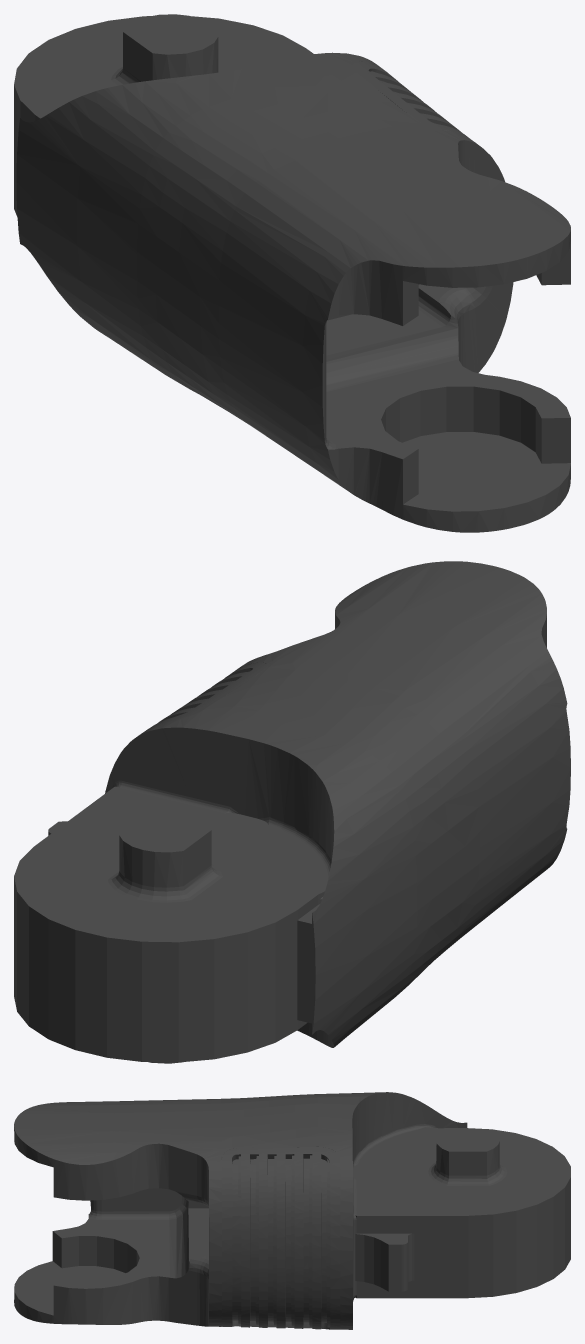
The model's file is lh_ring_proximal_vis.obj.
3 renders of one model, top to bottom at view 1: azimuth 30°, elevation 25°; view 2: azimuth 150°, elevation 25°; view 3: azimuth 270°, elevation 25°, orthographic. The views are drawn at different scales.
Parts seen in each view (by area): view 1: lh_ring_proximal; view 2: lh_ring_proximal; view 3: lh_ring_proximal.
Boxes of the visible parts, bbox=[...] form: lh_ring_proximal: bbox=[14, 14, 570, 532]; lh_ring_proximal: bbox=[14, 561, 570, 1063]; lh_ring_proximal: bbox=[14, 1092, 570, 1329].
Bounding box in the file's own units: 0.0191 × 0.016 × 0.0429.
1 material, 1 textured.
